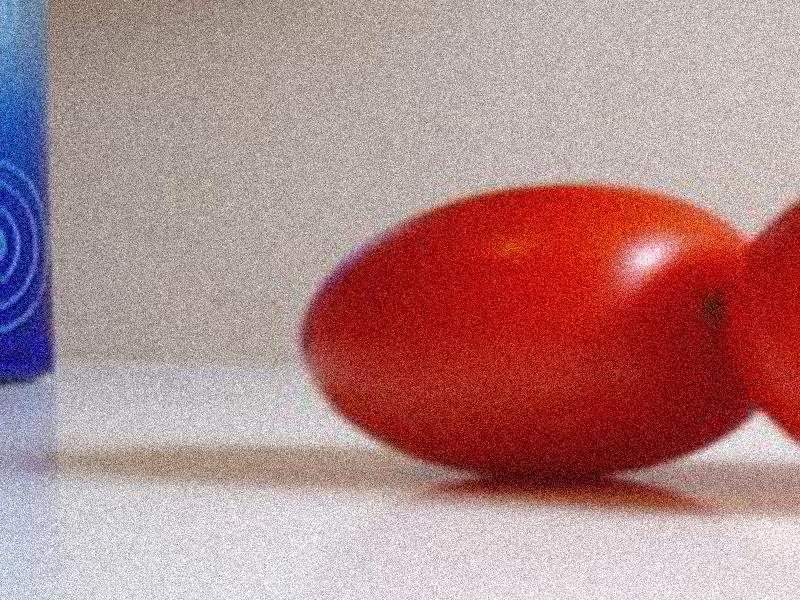Tomato: (303, 186, 749, 481)
